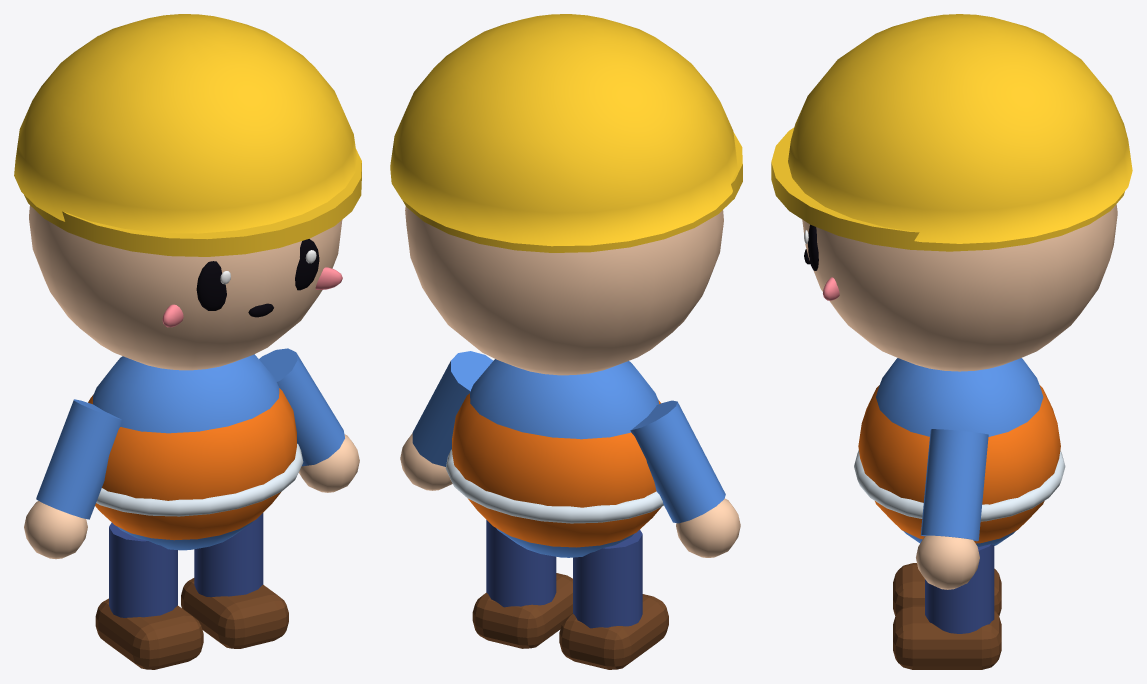
Rendered from worker.7a3d12b5.glb.
The picture shows the model from 3 angles, left to right: view 1: azimuth 30°, elevation 25°; view 2: azimuth 150°, elevation 25°; view 3: azimuth 270°, elevation 25°; orthographic projection.
Visible parts, largest first — view 1: Hat__T_hat, Body__T_skin, Body__T_orange, Body__T_shirt, Arm_R__T_shirt, Leg_R__T_jeans, Leg_R__T_boots, Leg_L__T_boots, Arm_L__T_shirt, Leg_L__T_jeans, Body__T_reflect, Arm_R__T_skin (+3 smaller); view 2: Hat__T_hat, Body__T_skin, Body__T_orange, Body__T_shirt, Arm_R__T_shirt, Leg_R__T_jeans, Leg_R__T_boots, Leg_L__T_jeans, Leg_L__T_boots, Arm_L__T_shirt, Body__T_reflect, Arm_R__T_skin (+1 smaller); view 3: Hat__T_hat, Body__T_skin, Body__T_orange, Body__T_shirt, Arm_L__T_shirt, Leg_L__T_boots, Leg_L__T_jeans, Body__T_reflect, Arm_L__T_skin, Leg_R__T_boots.
Part boxes in pixels (x1=…): Hat__T_hat: x1=14, y1=14, x2=361, y2=256; Body__T_skin: x1=29, y1=205, x2=342, y2=370; Body__T_orange: x1=88, y1=388, x2=296, y2=540; Body__T_shirt: x1=93, y1=354, x2=279, y2=550; Arm_R__T_shirt: x1=36, y1=399, x2=122, y2=519; Leg_R__T_jeans: x1=109, y1=522, x2=177, y2=617; Leg_R__T_boots: x1=95, y1=598, x2=203, y2=669; Leg_L__T_boots: x1=181, y1=578, x2=288, y2=648; Arm_L__T_shirt: x1=259, y1=348, x2=344, y2=466; Leg_L__T_jeans: x1=194, y1=513, x2=263, y2=597; Body__T_reflect: x1=96, y1=443, x2=303, y2=516; Arm_R__T_skin: x1=24, y1=501, x2=87, y2=559; Hat__T_hat: x1=390, y1=14, x2=742, y2=252; Body__T_skin: x1=405, y1=206, x2=723, y2=375; Body__T_orange: x1=452, y1=393, x2=661, y2=547; Body__T_shirt: x1=470, y1=359, x2=658, y2=557; Arm_R__T_shirt: x1=630, y1=400, x2=725, y2=523; Leg_R__T_jeans: x1=573, y1=530, x2=642, y2=628; Leg_R__T_boots: x1=559, y1=594, x2=668, y2=669; Leg_L__T_jeans: x1=486, y1=520, x2=556, y2=607; Leg_L__T_boots: x1=472, y1=573, x2=572, y2=648; Arm_L__T_shirt: x1=412, y1=351, x2=493, y2=466; Body__T_reflect: x1=445, y1=449, x2=663, y2=523; Arm_R__T_skin: x1=676, y1=498, x2=740, y2=557; Hat__T_hat: x1=771, y1=14, x2=1132, y2=251; Body__T_skin: x1=802, y1=204, x2=1117, y2=371; Body__T_orange: x1=858, y1=385, x2=1060, y2=543; Body__T_shirt: x1=876, y1=358, x2=1043, y2=546; Arm_L__T_shirt: x1=920, y1=429, x2=988, y2=541; Leg_L__T_boots: x1=893, y1=605, x2=1001, y2=669; Leg_L__T_jeans: x1=925, y1=544, x2=994, y2=633; Body__T_reflect: x1=854, y1=450, x2=1065, y2=521; Arm_L__T_skin: x1=916, y1=535, x2=979, y2=589; Leg_R__T_boots: x1=893, y1=563, x2=1001, y2=615.
Size of the model in its own units: 0.7671 by 1.36 by 0.731.
